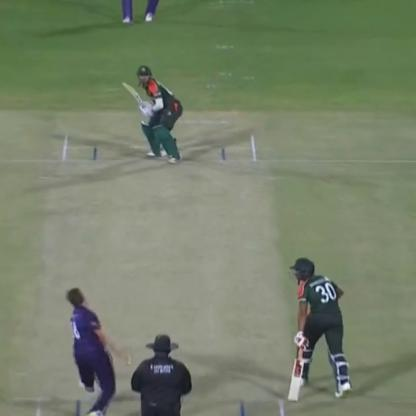bat: (18, 125, 304, 416), (121, 78, 156, 120)
pitch: (284, 342, 306, 404)
